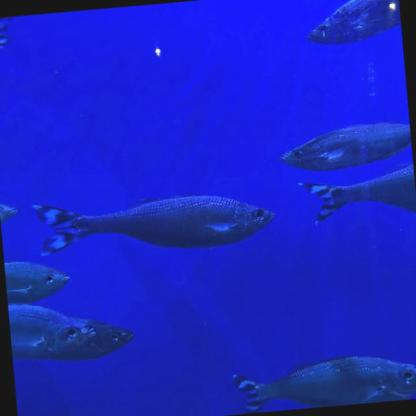fish: (31, 181, 280, 263), (230, 348, 416, 414), (8, 293, 139, 367), (276, 114, 413, 177), (296, 166, 416, 226), (298, 0, 401, 49), (4, 254, 76, 308), (0, 16, 19, 60)
